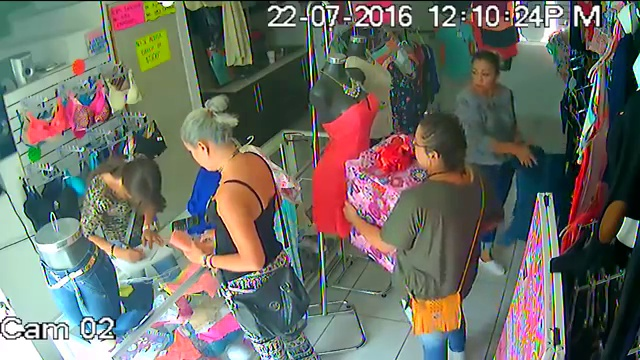face: (410, 121, 440, 173), (467, 58, 500, 93)
